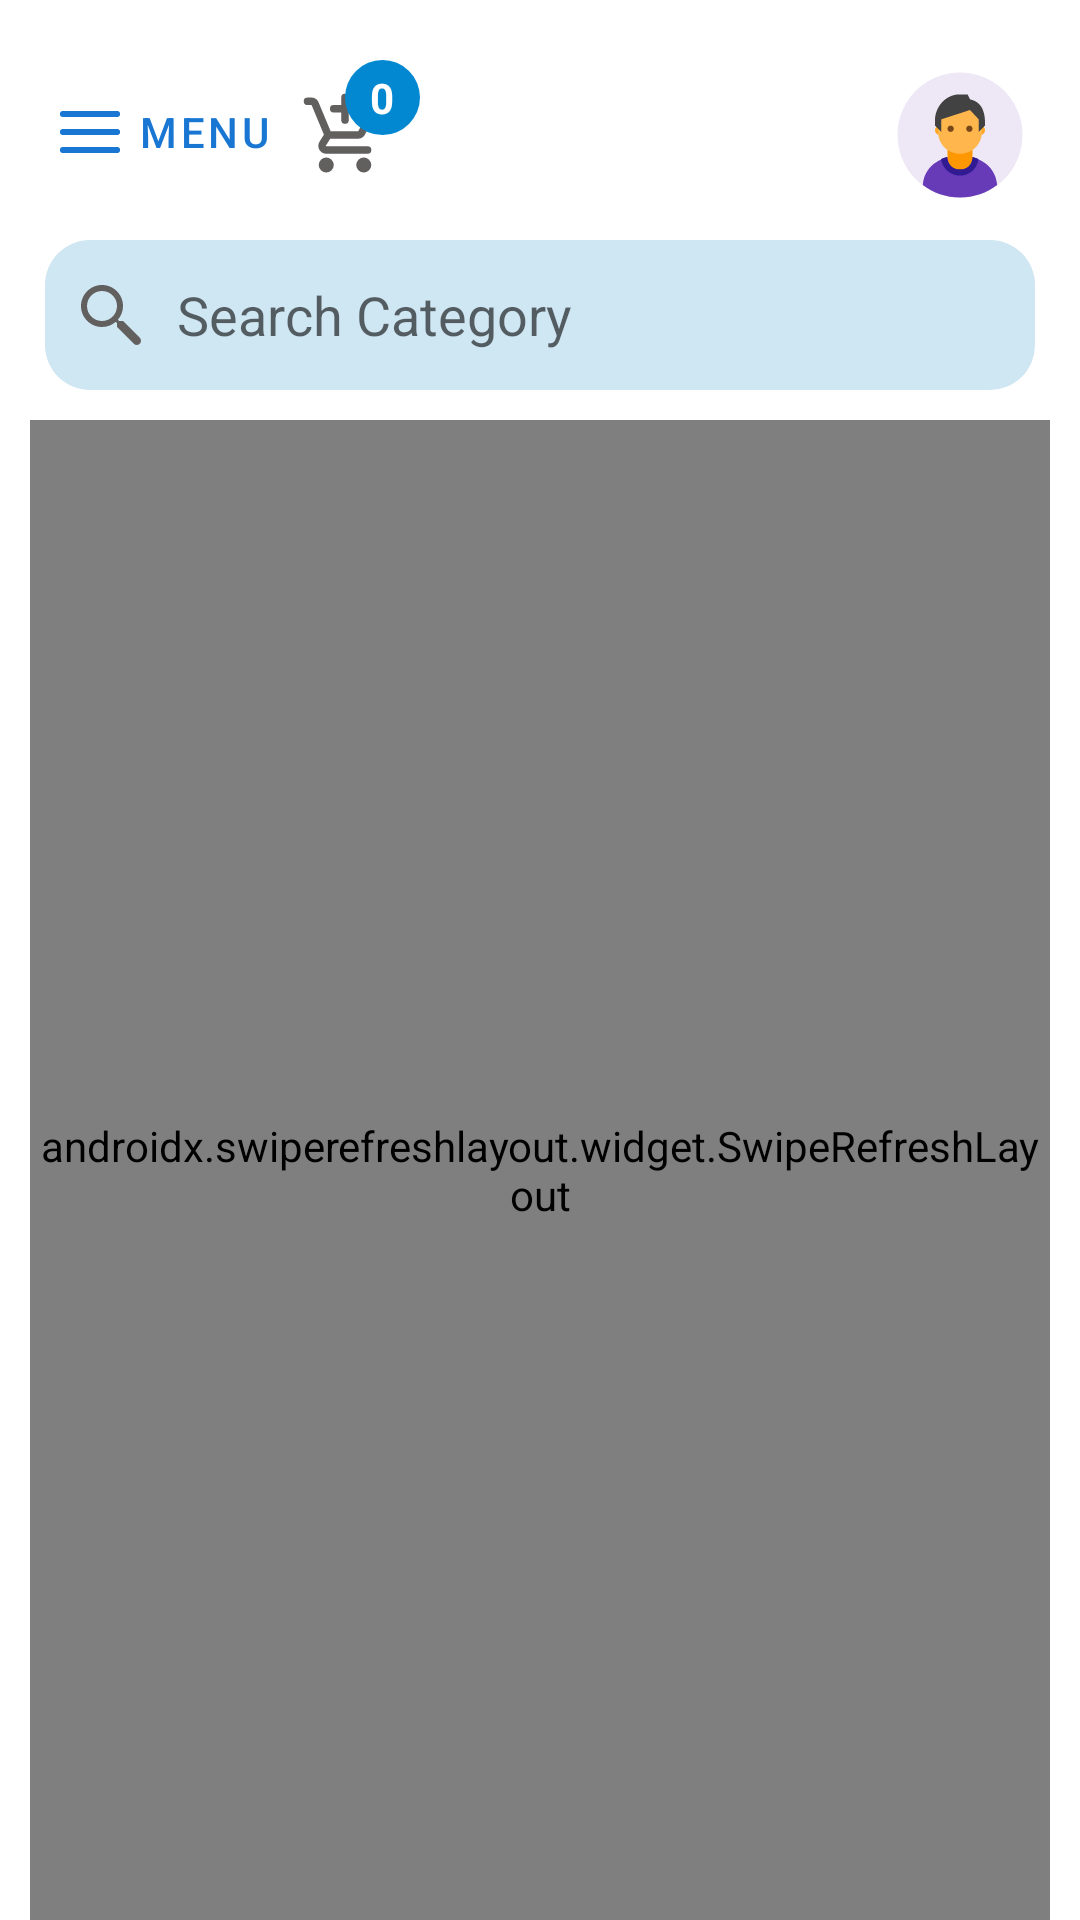

Screen size 1080*1920. Icon name, then its center in pixels as (x=x, y=y):
addcart: (x=346, y=131)
male user: (x=960, y=146)
